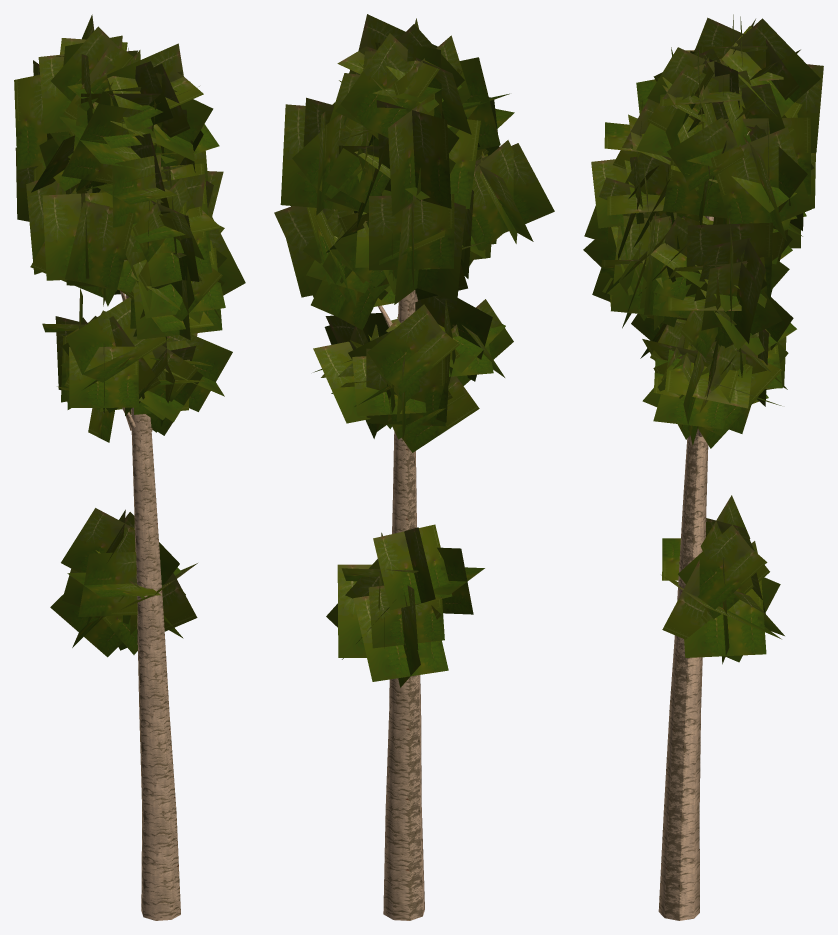
File: poplar.glb
3 views of the same model, side by side, from view 1: azimuth 30°, elevation 25°; view 2: azimuth 150°, elevation 25°; view 3: azimuth 270°, elevation 25° (orthographic). The views are drawn at different scales.
Visible parts, largest first — view 1: poplar_canopy, poplar_trunk; view 2: poplar_canopy, poplar_trunk; view 3: poplar_canopy, poplar_trunk.
Boxes of the visible parts, box(x1,y1,x2,y2) form: poplar_canopy: box(14, 14, 245, 657); poplar_trunk: box(120, 291, 180, 920); poplar_canopy: box(274, 14, 554, 687); poplar_trunk: box(378, 290, 424, 920); poplar_canopy: box(583, 14, 823, 664); poplar_trunk: box(658, 131, 749, 920).
Size of the model in its own units: 2.59 by 10.34 by 2.56.
Materials: 2 (2 with a texture image).
